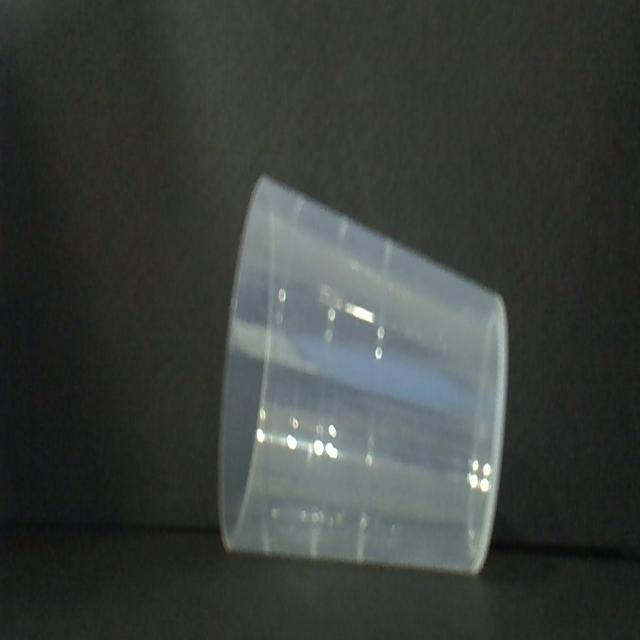cup: (213, 172, 510, 584)
